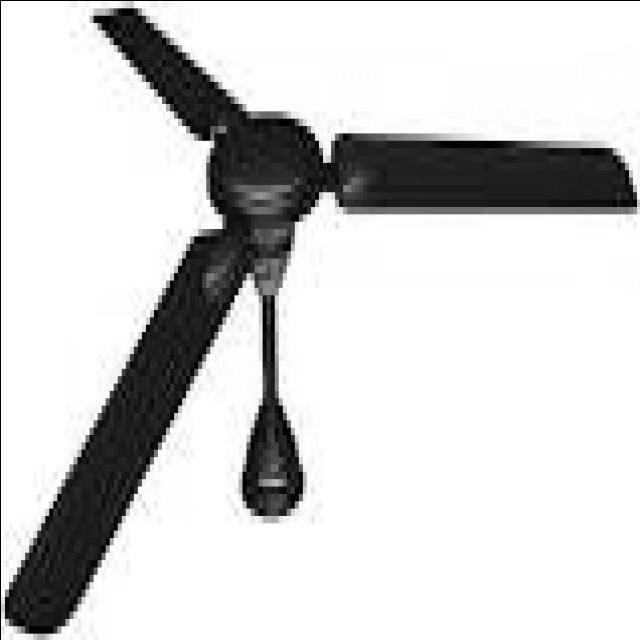fan: (1, 6, 637, 637)
